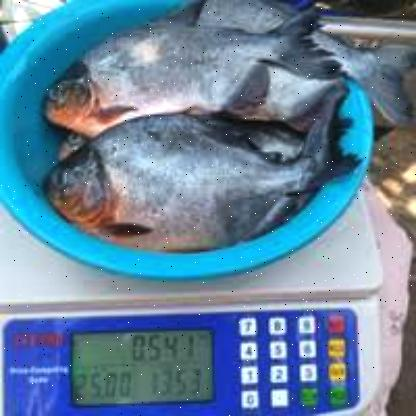ikan-pacu: (40, 108, 326, 246), (44, 12, 306, 130)
